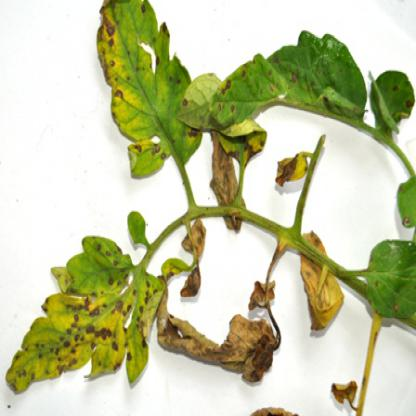tomato septoria leaf spot: (175, 25, 376, 156), (1, 238, 162, 398), (93, 4, 210, 186)
